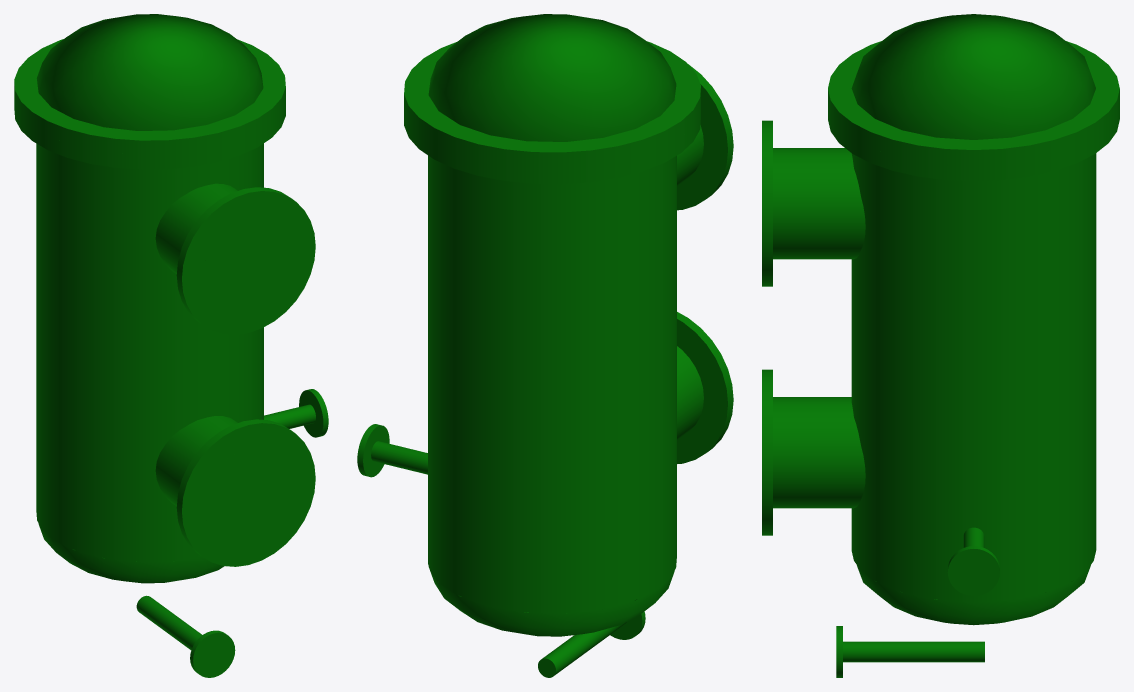
Rendered from Image-1710907725892-2281074220288_50-CA50B.fbx.
3 renders of one model, left to right at view 1: azimuth 30°, elevation 25°; view 2: azimuth 150°, elevation 25°; view 3: azimuth 270°, elevation 25°, orthographic. The views are drawn at different scales.
Visible parts, largest first — view 1: CYLINDER 1 of SUBEQUIPMENT /50-CA50B/PRIM, DISH 2 of SUBEQUIPMENT /50-CA50B/PRIM, /50-CA50B-OUTLET, /50-CA50B-INLET, CYLINDER 3 of SUBEQUIPMENT /50-CA50B/PRIM, CYLINDER 2 of SUBEQUIPMENT /50-CA50B/PRIM, DISH 1 of SUBEQUIPMENT /50-CA50B/PRIM, /50-CA50B-OVERBOARD2, /50-CA50B-OVERBOARD1; view 2: CYLINDER 1 of SUBEQUIPMENT /50-CA50B/PRIM, DISH 2 of SUBEQUIPMENT /50-CA50B/PRIM, CYLINDER 3 of SUBEQUIPMENT /50-CA50B/PRIM, /50-CA50B-INLET, CYLINDER 2 of SUBEQUIPMENT /50-CA50B/PRIM, DISH 1 of SUBEQUIPMENT /50-CA50B/PRIM, /50-CA50B-OUTLET, /50-CA50B-OVERBOARD1, /50-CA50B-OVERBOARD2; view 3: CYLINDER 1 of SUBEQUIPMENT /50-CA50B/PRIM, DISH 2 of SUBEQUIPMENT /50-CA50B/PRIM, /50-CA50B-INLET, /50-CA50B-OUTLET, CYLINDER 3 of SUBEQUIPMENT /50-CA50B/PRIM, CYLINDER 2 of SUBEQUIPMENT /50-CA50B/PRIM, DISH 1 of SUBEQUIPMENT /50-CA50B/PRIM, /50-CA50B-OVERBOARD2, /50-CA50B-OVERBOARD1.
Part boxes in pixels (box(x1,y1,x2,y2)): CYLINDER 1 of SUBEQUIPMENT /50-CA50B/PRIM: box(36, 143, 263, 562); DISH 2 of SUBEQUIPMENT /50-CA50B/PRIM: box(36, 14, 263, 130); /50-CA50B-OUTLET: box(155, 183, 315, 334); /50-CA50B-INLET: box(155, 416, 315, 566); CYLINDER 3 of SUBEQUIPMENT /50-CA50B/PRIM: box(14, 39, 285, 154); CYLINDER 2 of SUBEQUIPMENT /50-CA50B/PRIM: box(14, 96, 285, 169); DISH 1 of SUBEQUIPMENT /50-CA50B/PRIM: box(38, 523, 224, 583); /50-CA50B-OVERBOARD2: box(136, 595, 235, 677); /50-CA50B-OVERBOARD1: box(264, 389, 328, 437); CYLINDER 1 of SUBEQUIPMENT /50-CA50B/PRIM: box(428, 155, 676, 613); DISH 2 of SUBEQUIPMENT /50-CA50B/PRIM: box(428, 14, 676, 141); CYLINDER 3 of SUBEQUIPMENT /50-CA50B/PRIM: box(404, 41, 700, 168); /50-CA50B-INLET: box(677, 312, 733, 463); CYLINDER 2 of SUBEQUIPMENT /50-CA50B/PRIM: box(404, 104, 700, 184); DISH 1 of SUBEQUIPMENT /50-CA50B/PRIM: box(428, 566, 674, 636); /50-CA50B-OUTLET: box(677, 64, 733, 210); /50-CA50B-OVERBOARD1: box(357, 424, 427, 477); /50-CA50B-OVERBOARD2: box(538, 611, 645, 677); CYLINDER 1 of SUBEQUIPMENT /50-CA50B/PRIM: box(851, 153, 1096, 602); DISH 2 of SUBEQUIPMENT /50-CA50B/PRIM: box(851, 14, 1095, 139); /50-CA50B-INLET: box(762, 369, 865, 535); /50-CA50B-OUTLET: box(762, 120, 865, 286); CYLINDER 3 of SUBEQUIPMENT /50-CA50B/PRIM: box(828, 41, 1119, 165); CYLINDER 2 of SUBEQUIPMENT /50-CA50B/PRIM: box(828, 104, 1119, 181); DISH 1 of SUBEQUIPMENT /50-CA50B/PRIM: box(857, 565, 1090, 625); /50-CA50B-OVERBOARD2: box(836, 626, 984, 677); /50-CA50B-OVERBOARD1: box(947, 527, 999, 595).
Bounding box in the file's own units: 1.03 × 1.04 × 2.06.
